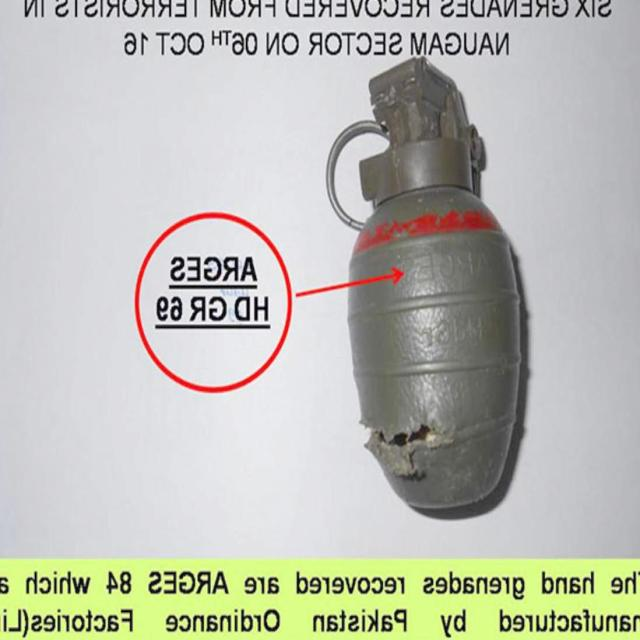grenade: (325, 60, 524, 511)
